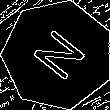N_SE: (25, 24, 91, 86)
